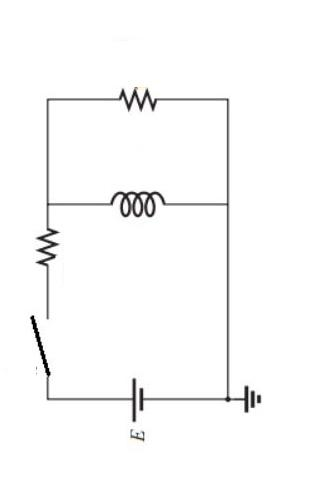resistor: (101, 74, 173, 121), (28, 210, 74, 280)
